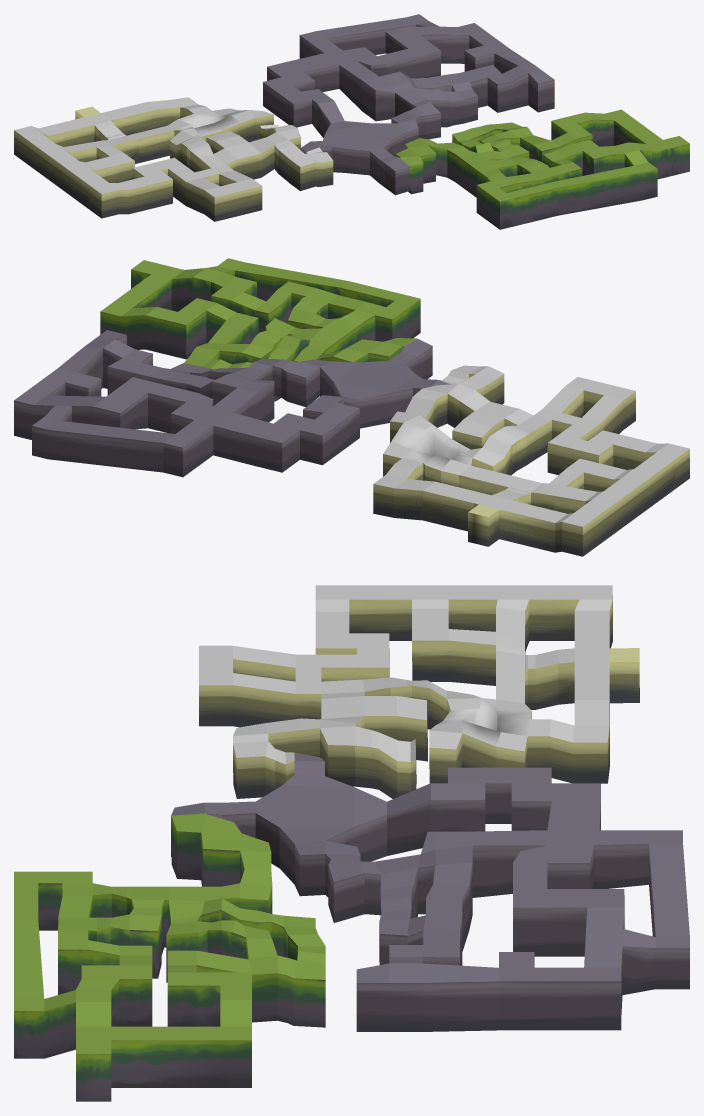
The model's file is finalized map.fbx.
3 renders of one model, top to bottom at view 1: azimuth 30°, elevation 25°; view 2: azimuth 150°, elevation 25°; view 3: azimuth 270°, elevation 25°, orthographic. The views are drawn at different scales.
Visible parts, largest first — view 1: polySurface106, polySurface118, polySurface123, polySurface125, polySurface107, polySurface105, polySurface110, polySurface109, polySurface108, polySurface113, polySurface111, polySurface115 (+1 smaller); view 2: polySurface106, polySurface123, polySurface118, polySurface125, polySurface110, polySurface109, polySurface105, polySurface113, polySurface107, polySurface108, polySurface111, polySurface115 (+2 smaller); view 3: polySurface106, polySurface118, polySurface123, polySurface125, polySurface109, polySurface105, polySurface110, polySurface107, polySurface113, polySurface108, polySurface115, polySurface111 (+4 smaller).
Boxes of the visible parts, box(x1,y1,x2,y2) form: polySurface106: box(14, 35, 689, 229); polySurface118: box(263, 14, 553, 170); polySurface123: box(14, 97, 332, 197); polySurface125: box(396, 109, 672, 201); polySurface107: box(357, 34, 517, 78); polySurface105: box(294, 65, 416, 123); polySurface110: box(91, 130, 210, 182); polySurface109: box(490, 119, 645, 167); polySurface108: box(500, 151, 633, 192); polySurface113: box(326, 24, 424, 54); polySurface111: box(111, 107, 193, 135); polySurface115: box(41, 125, 108, 146); polySurface106: box(14, 260, 689, 556); polySurface123: box(374, 365, 689, 526); polySurface118: box(14, 330, 450, 447); polySurface125: box(101, 258, 419, 369); polySurface110: box(471, 420, 656, 475); polySurface109: box(133, 277, 322, 343); polySurface105: box(233, 366, 341, 422); polySurface113: box(60, 393, 193, 433); polySurface107: box(48, 348, 236, 407); polySurface108: box(224, 270, 394, 306); polySurface111: box(407, 463, 508, 495); polySurface115: box(512, 492, 591, 513); polySurface106: box(14, 596, 689, 1101); polySurface118: box(171, 752, 689, 982); polySurface123: box(199, 585, 612, 764); polySurface125: box(14, 813, 325, 1040); polySurface109: box(88, 900, 248, 1026); polySurface105: box(326, 783, 551, 861); polySurface110: box(321, 599, 495, 685); polySurface107: box(423, 845, 587, 965); polySurface113: box(547, 844, 655, 937); polySurface108: box(38, 883, 119, 994); polySurface115: box(525, 599, 579, 654); polySurface111: box(525, 662, 574, 719).
Size of the model in its own units: 979 by 121 by 653.
